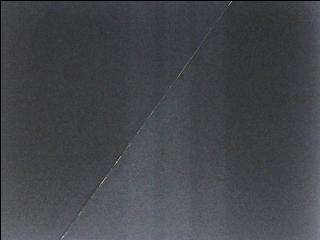crack: (58, 0, 236, 240)
